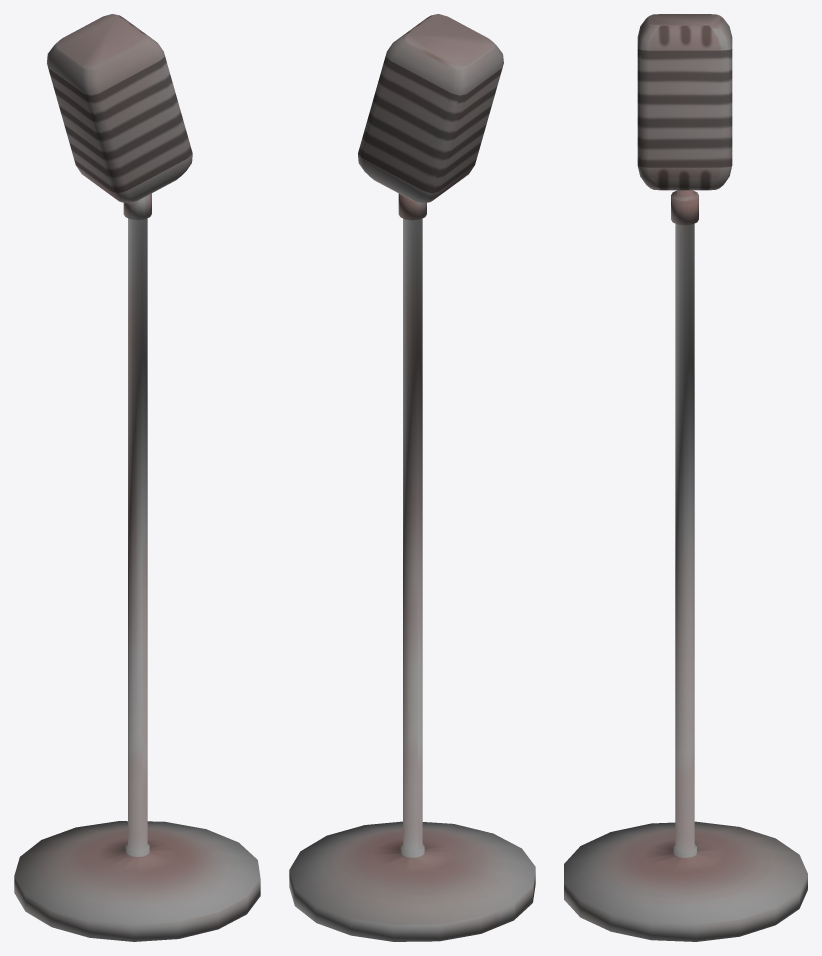
File: MIKKI.fbx
3 views of the same model, side by side, from view 1: azimuth 30°, elevation 25°; view 2: azimuth 150°, elevation 25°; view 3: azimuth 270°, elevation 25° (orthographic).
Parts seen in each view (by area): view 1: mikkistandi, mikki; view 2: mikkistandi, mikki; view 3: mikkistandi, mikki.
Boxes of the visible parts, x1=… form: mikkistandi: x1=14, y1=193, x2=260, y2=941; mikki: x1=47, y1=14, x2=192, y2=203; mikkistandi: x1=289, y1=193, x2=535, y2=941; mikki: x1=358, y1=14, x2=503, y2=203; mikkistandi: x1=564, y1=190, x2=807, y2=941; mikki: x1=637, y1=14, x2=732, y2=190.
Bounding box in the file's own units: 25.89 × 100 × 25.78.
2 materials, 2 textured.
